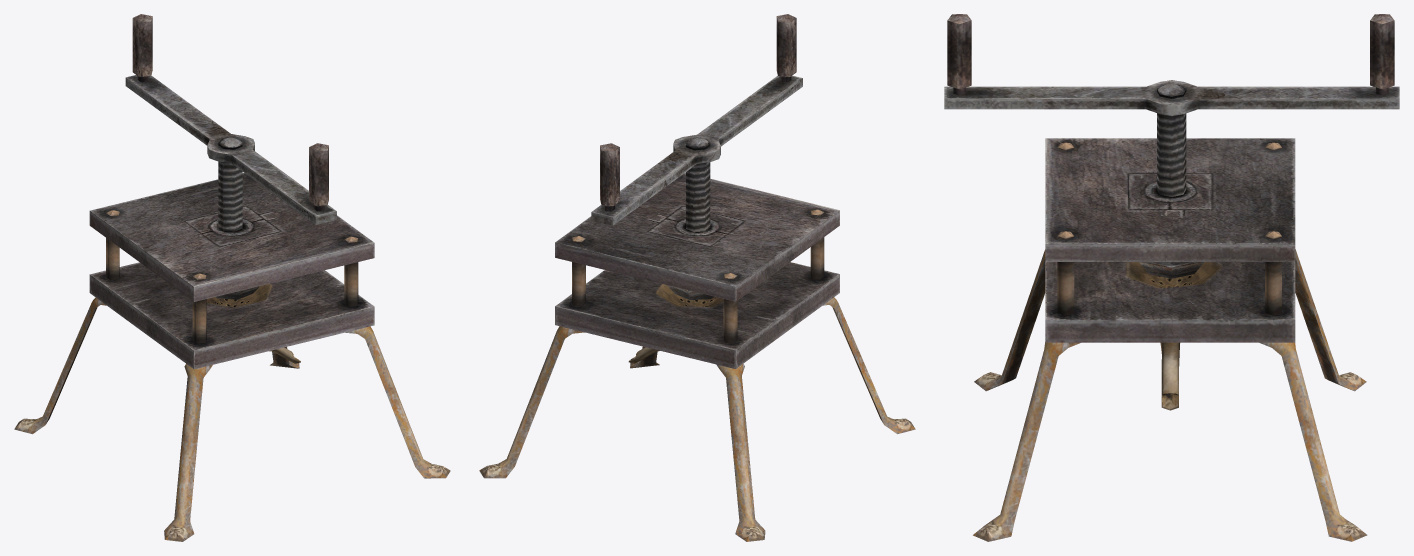
File: squeezer.dae
3 renders of one model, left to right at view 1: azimuth 30°, elevation 25°; view 2: azimuth 150°, elevation 25°; view 3: azimuth 270°, elevation 25°, orthographic. The views are drawn at different scales.
Parts seen in each view (by area): view 1: base, crank; view 2: base, crank; view 3: base, crank.
Boxes of the visible parts, box(x1,y1,x2,y2) form: base: box(14, 173, 450, 541); crank: box(125, 14, 336, 299); base: box(479, 172, 915, 541); crank: box(591, 14, 802, 300); base: box(973, 138, 1367, 541); crank: box(944, 14, 1399, 278).
Bounding box in the file's own units: 0.3159 × 0.3644 × 0.3922.
